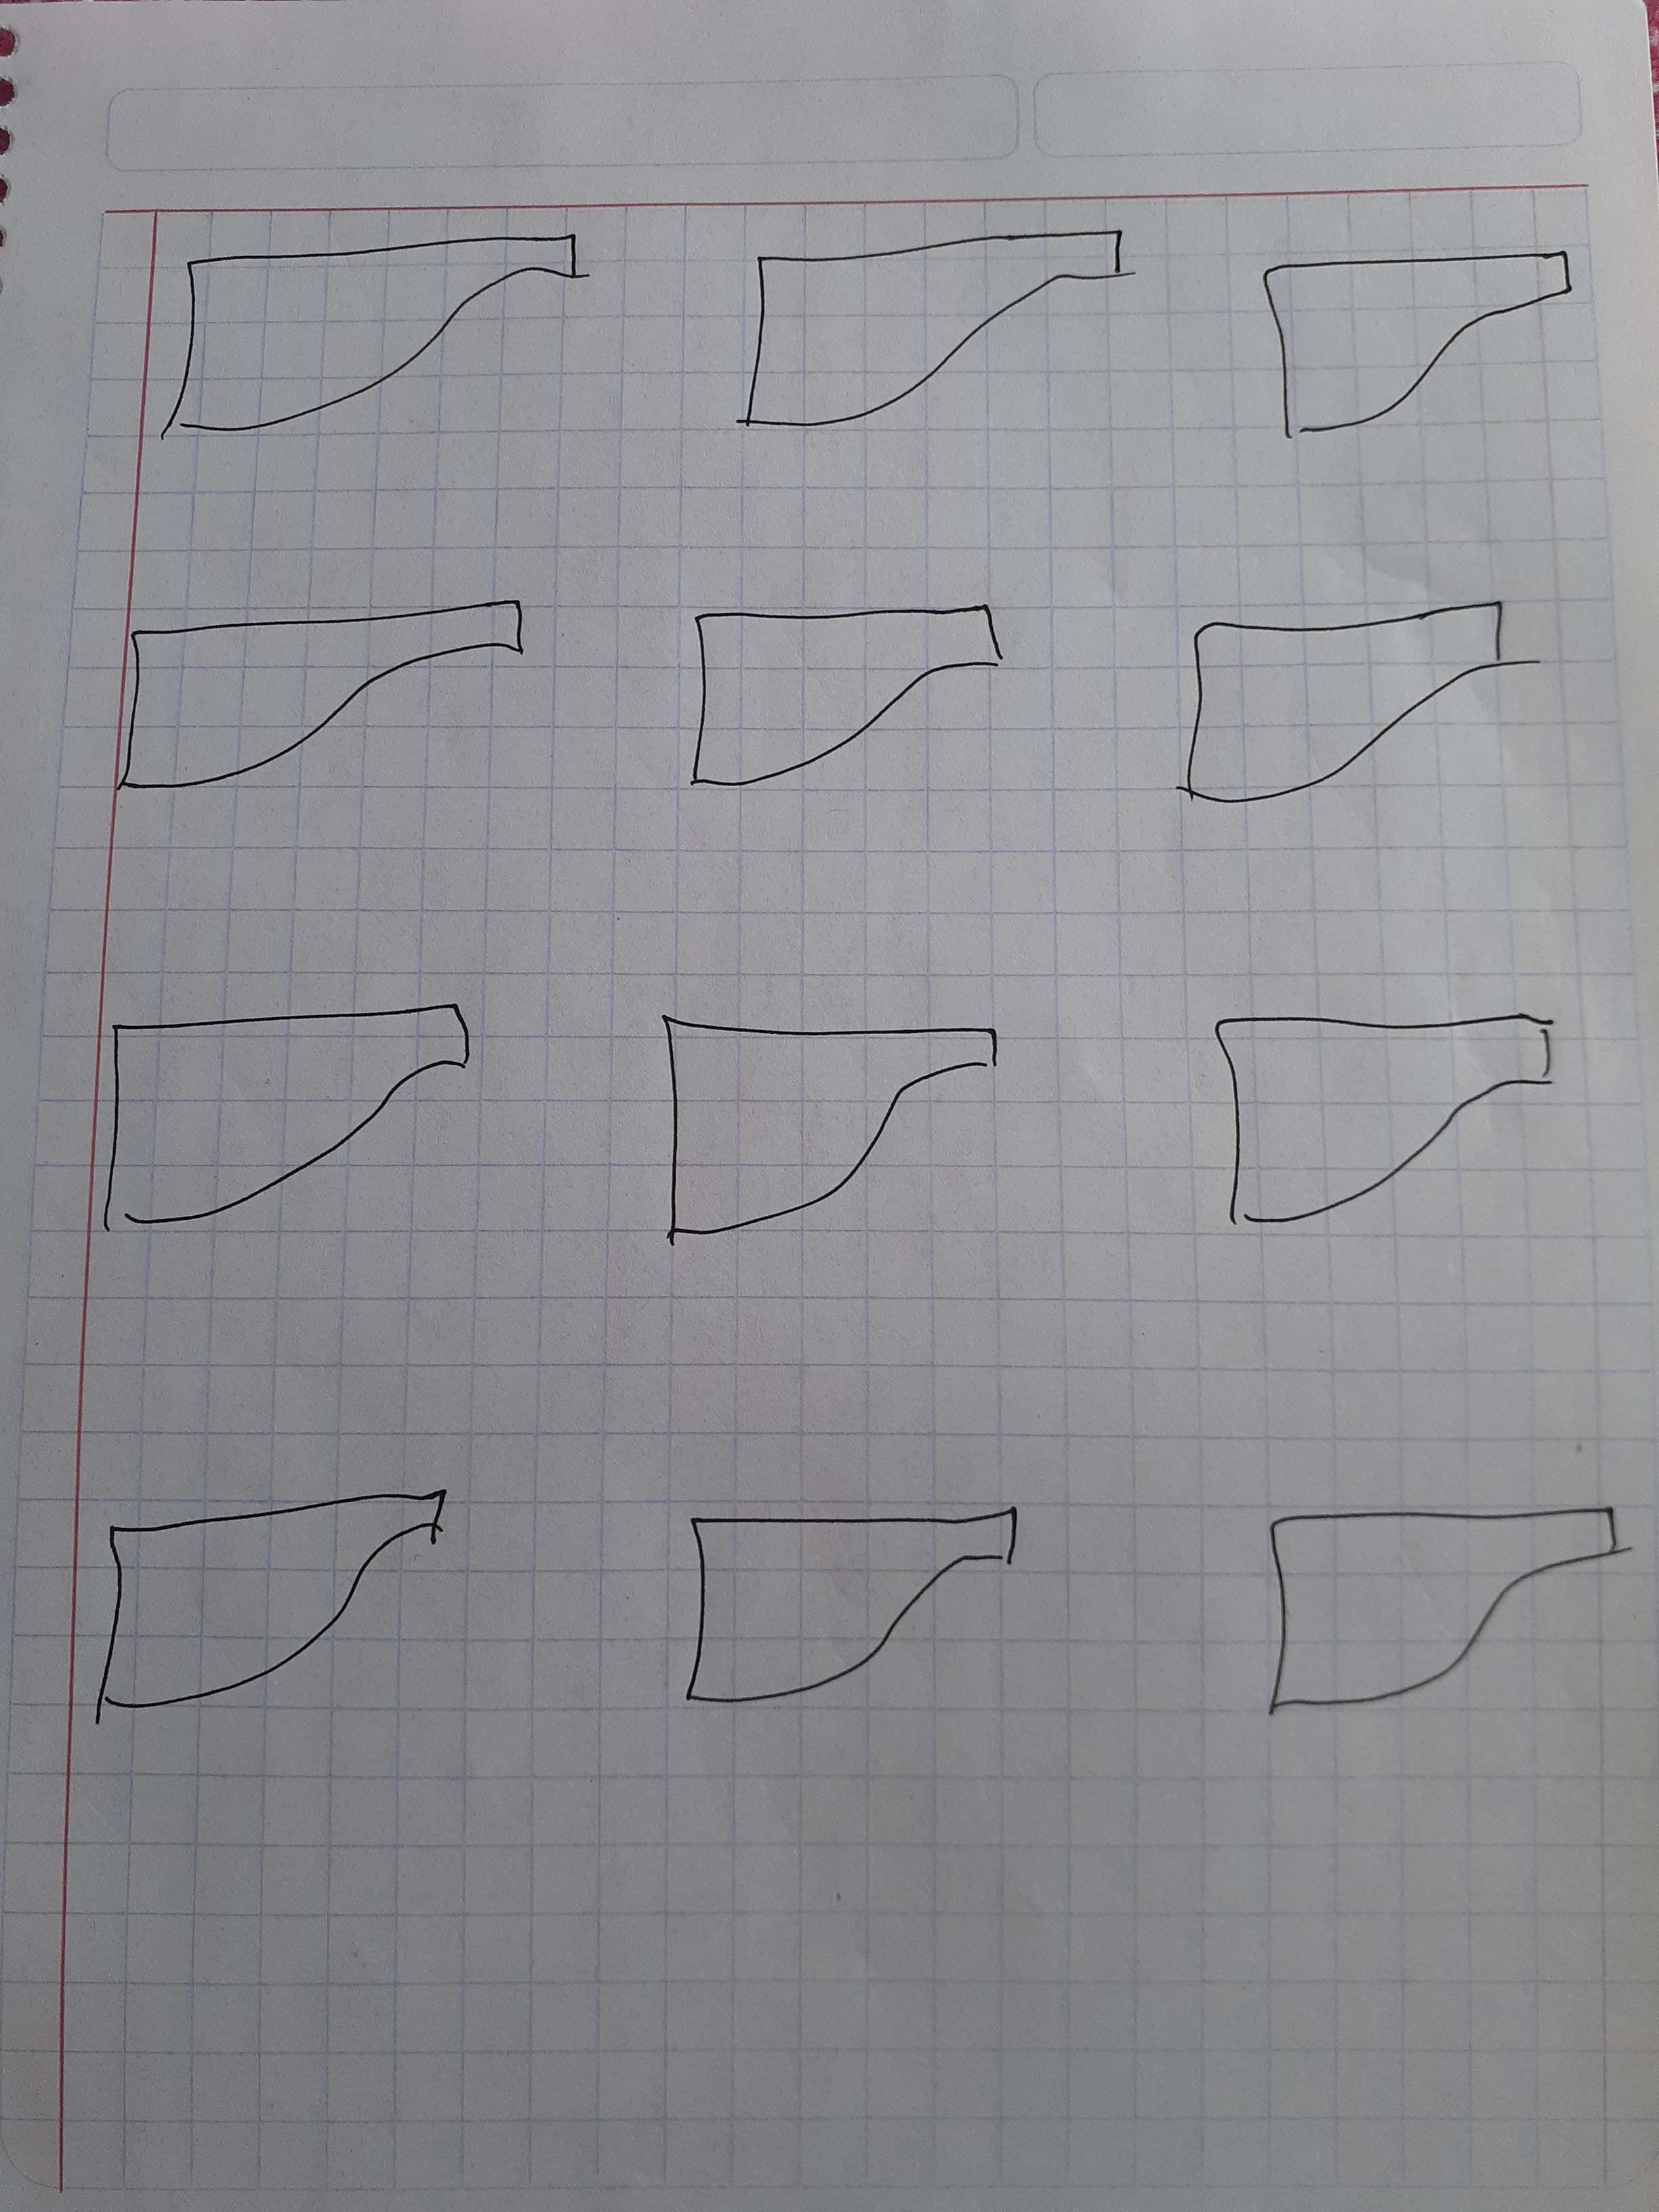print: (1213, 1461, 1642, 1780), (613, 977, 1028, 1292), (58, 1461, 495, 1747), (638, 1468, 1051, 1754), (71, 568, 549, 812), (1169, 540, 1539, 841), (1162, 977, 1582, 1238), (157, 214, 606, 458), (78, 991, 495, 1249), (713, 214, 1154, 442), (1237, 211, 1586, 462), (671, 594, 1011, 819)
